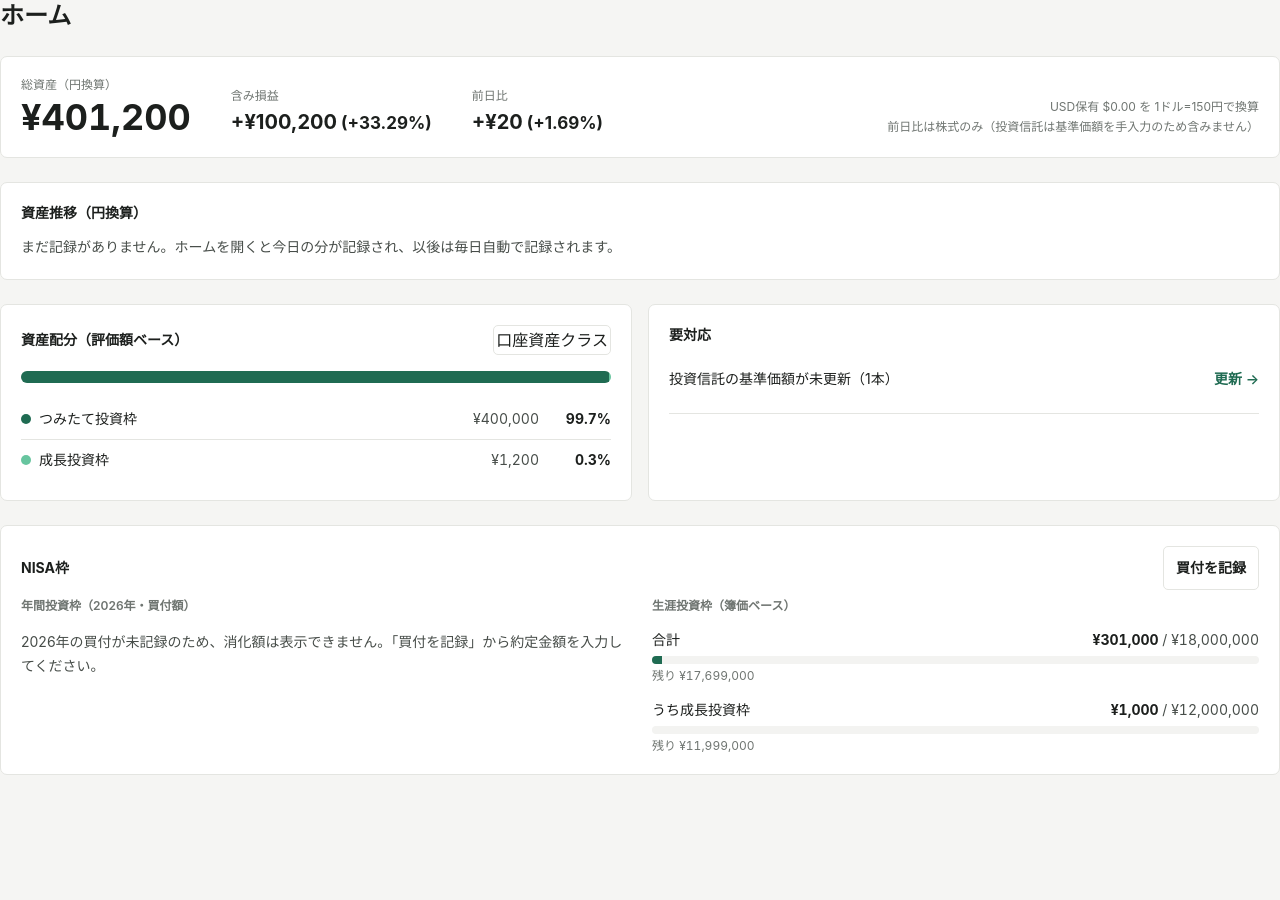
Test: HomeDashboard (Phase 2) › lists stale fund NAVs under 要対応 and opens the update dialog
The width and height of the screenshot is (1280, 900).
Expected: the text "投資信託の基準価額が未更新（1本）" is shown, [669, 369, 899, 389]
Click the button "更新 →".
click(1237, 379)  # box [1214, 357, 1259, 401]
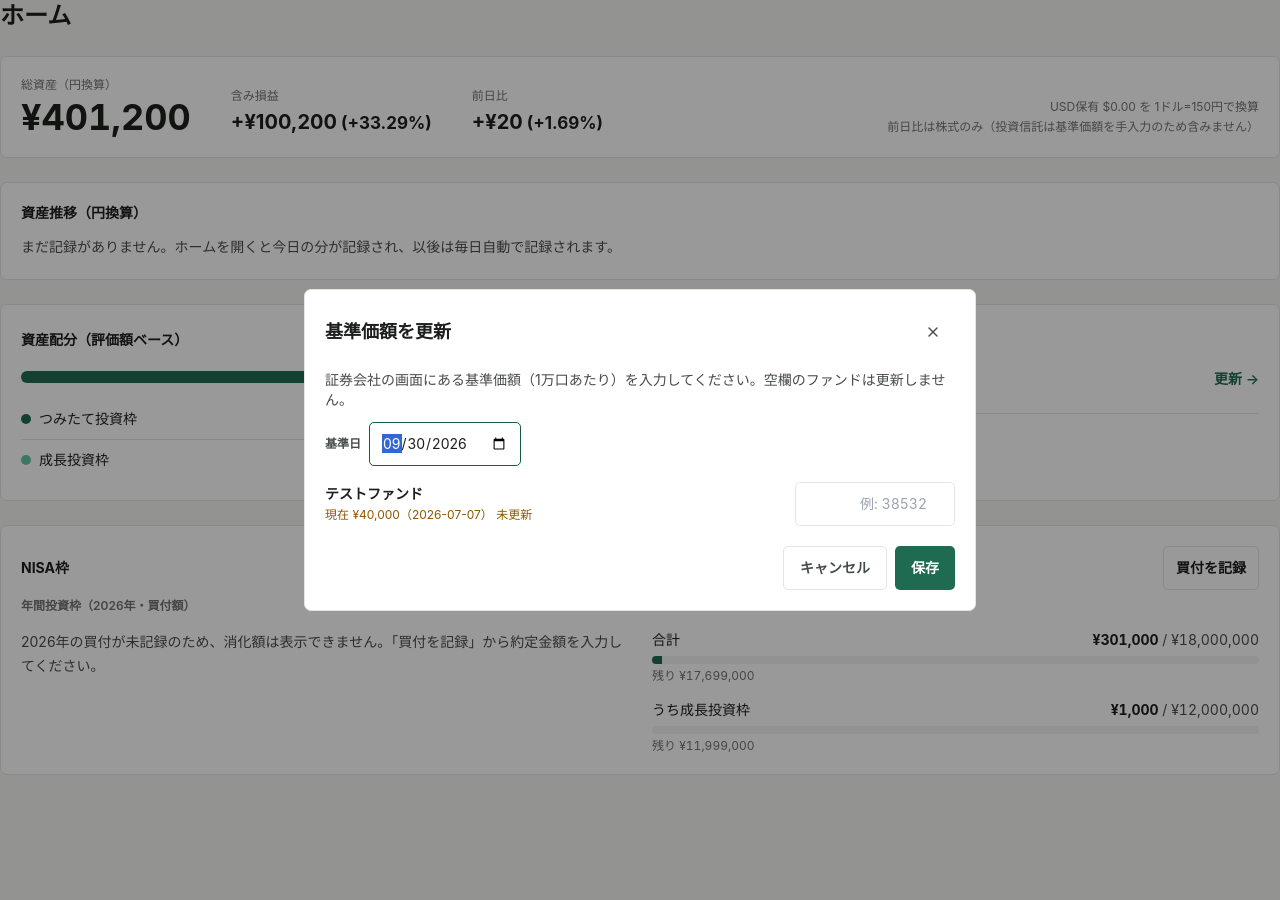
Expected: the dialog "基準価額を更新" is shown, [304, 289, 976, 611]
